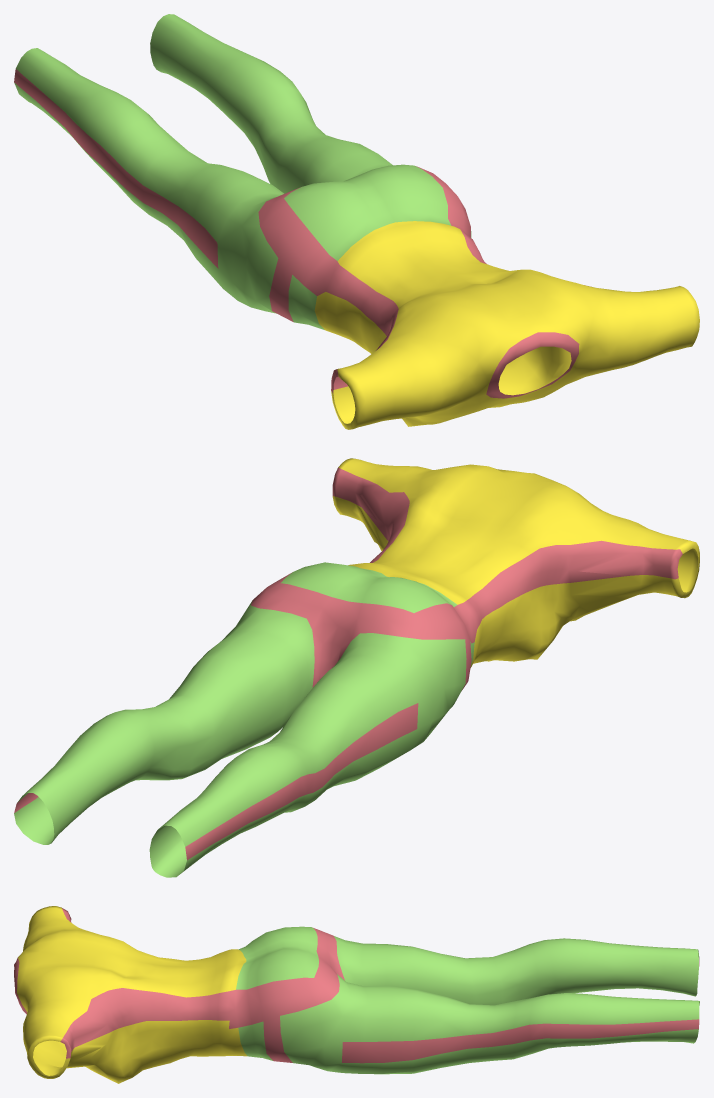
File: FemaleShortSleevesAccents1.fbx
3 views of the same model, one above another, from view 1: azimuth 30°, elevation 25°; view 2: azimuth 150°, elevation 25°; view 3: azimuth 270°, elevation 25° (orthographic). The views are drawn at different scales.
Visible parts, largest first — view 1: LongTightPants; view 2: LongTightPants; view 3: LongTightPants.
Boxes of the visible parts, x1,y1,x2,y2 form: LongTightPants: [14, 14, 699, 429]; LongTightPants: [14, 458, 699, 877]; LongTightPants: [14, 906, 699, 1083].
Size of the model in its own units: 58.2 by 24.75 by 128.
